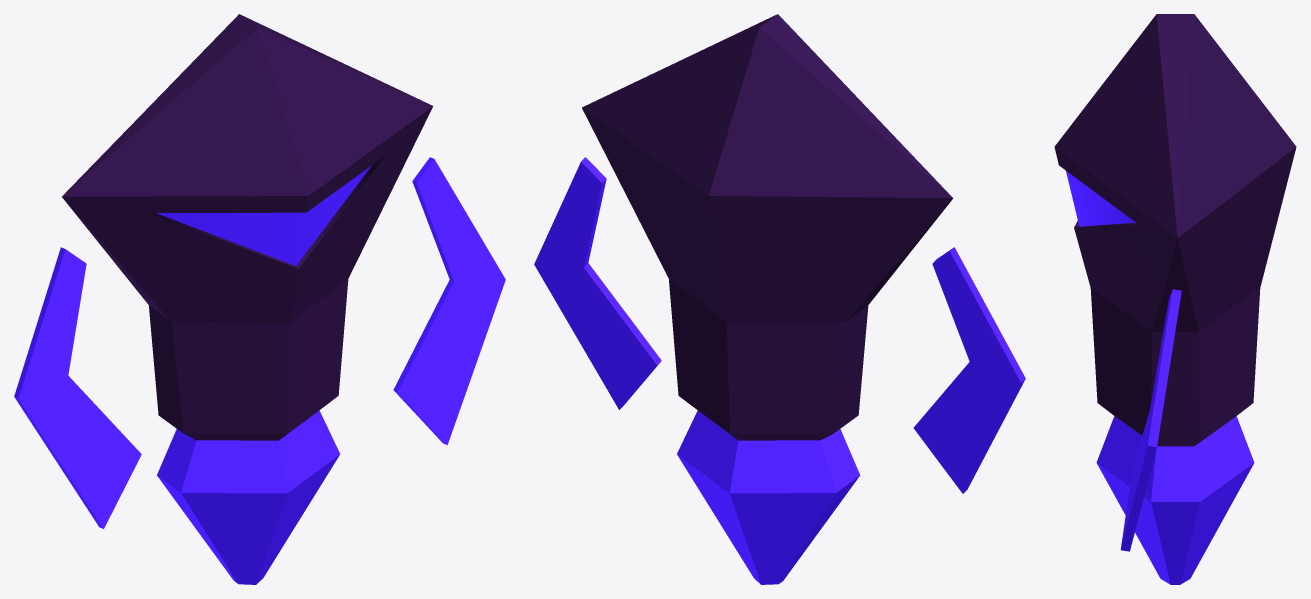
File: sword.glb
3 views of the same model, side by side, from view 1: azimuth 30°, elevation 25°; view 2: azimuth 150°, elevation 25°; view 3: azimuth 270°, elevation 25° (orthographic).
Visible parts, largest first — view 1: sword body, sword hand; view 2: sword body, sword hand; view 3: sword body, sword hand.
Boxes of the visible parts, bbox=[...] form: sword body: bbox=[62, 14, 433, 584]; sword hand: bbox=[14, 157, 505, 528]; sword body: bbox=[582, 14, 953, 584]; sword hand: bbox=[534, 157, 1025, 493]; sword body: bbox=[1054, 14, 1296, 584]; sword hand: bbox=[1120, 289, 1181, 551].
Size of the model in its own units: 2.75 by 3.02 by 1.17.
